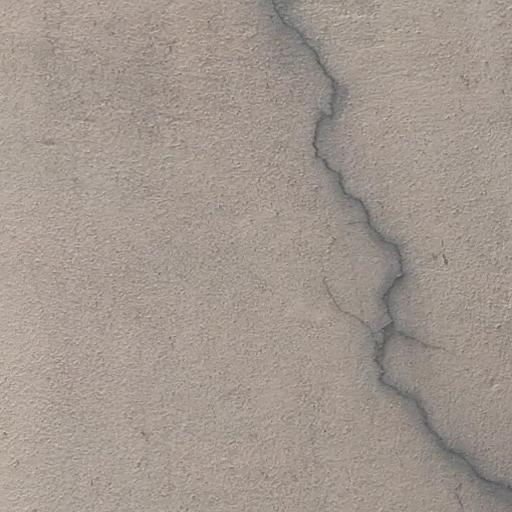major_crack: (261, 0, 511, 506)
